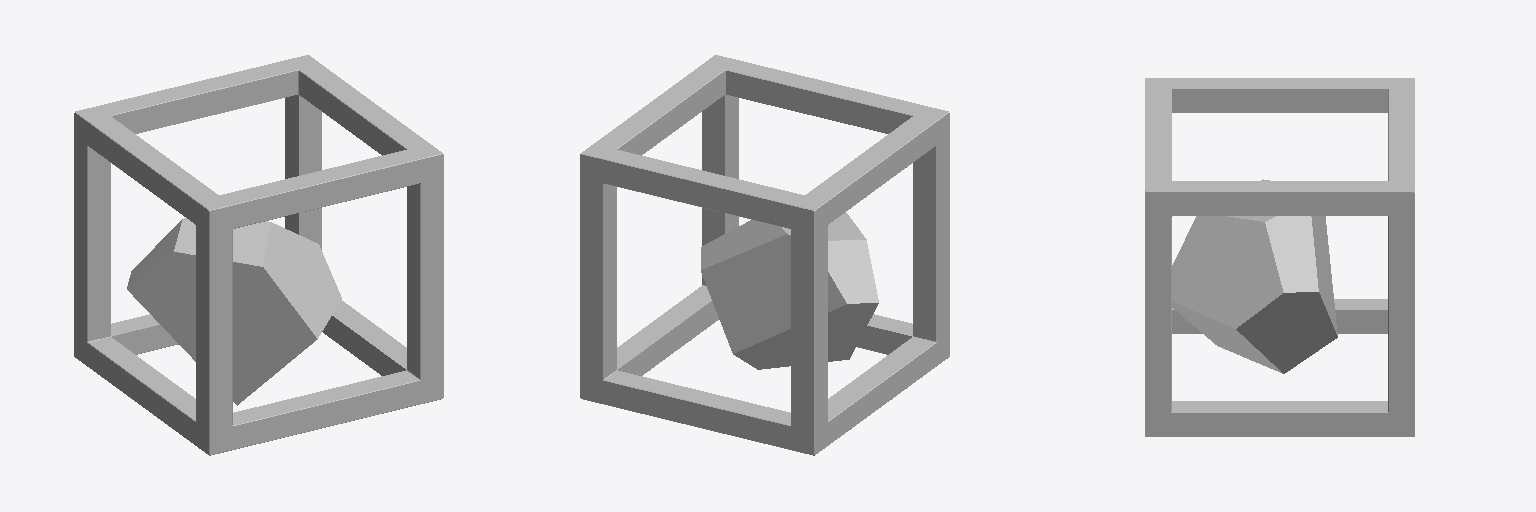
Rendered from TesseractBroken1.obj.
The picture shows the model from 3 angles: view 1: azimuth 30°, elevation 25°; view 2: azimuth 150°, elevation 25°; view 3: azimuth 270°, elevation 25°; orthographic projection.
Visible parts, largest first — view 1: Cube.002_Cube.007, Cube.002_cell_Cube.002_cell.008; view 2: Cube.002_Cube.007, Cube.002_cell_Cube.002_cell.008; view 3: Cube.002_Cube.007, Cube.002_cell_Cube.002_cell.008.
Boxes of the visible parts, x1=… form: Cube.002_Cube.007: x1=74, y1=55, x2=443, y2=455; Cube.002_cell_Cube.002_cell.008: x1=127, y1=218, x2=341, y2=405; Cube.002_Cube.007: x1=580, y1=55, x2=949, y2=455; Cube.002_cell_Cube.002_cell.008: x1=701, y1=212, x2=878, y2=369; Cube.002_Cube.007: x1=1145, y1=78, x2=1414, y2=436; Cube.002_cell_Cube.002_cell.008: x1=1172, y1=179, x2=1337, y2=373.
Bounding box in the file's own units: 2.46 × 2.4 × 2.4.